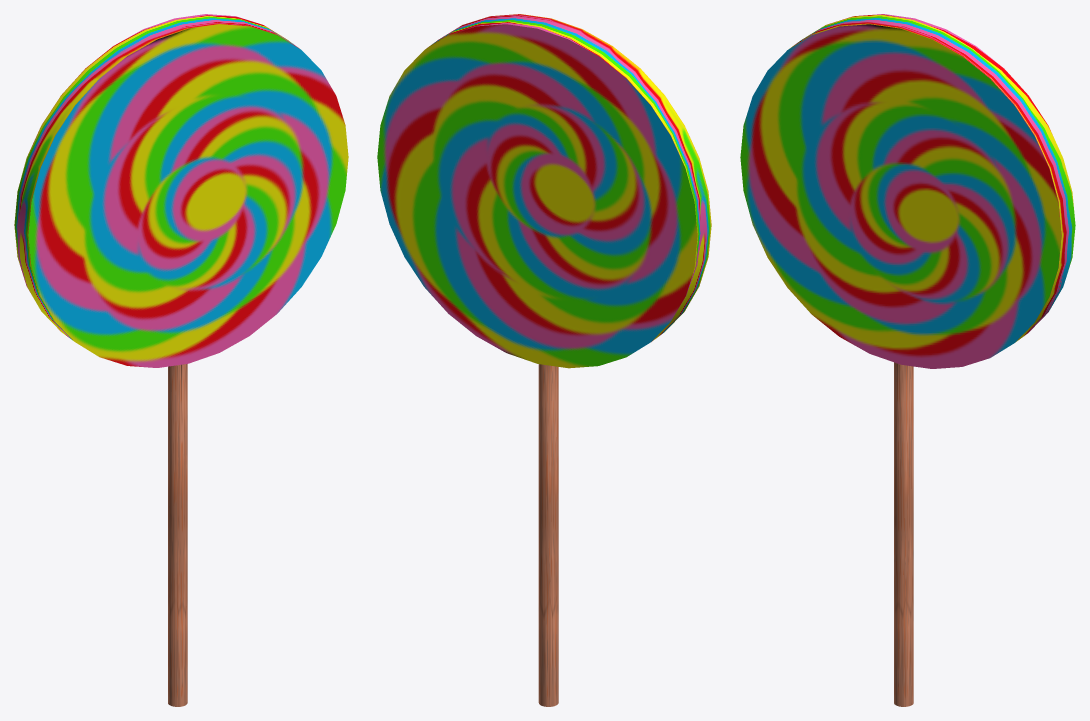
The model's file is lolipop.fbx.
3 renders of one model, left to right at view 1: azimuth 30°, elevation 25°; view 2: azimuth 150°, elevation 25°; view 3: azimuth 330°, elevation 25°, orthographic.
Parts seen in each view (by area): view 1: Pirulito; view 2: Pirulito; view 3: Pirulito.
Boxes of the visible parts, x1,y1,x2,y2 form: Pirulito: (14,14,348,706); Pirulito: (377,14,711,706); Pirulito: (740,14,1075,706).
Bounding box in the file's own units: 253 × 513 × 19.14.
Materials: 1 (1 with a texture image).
